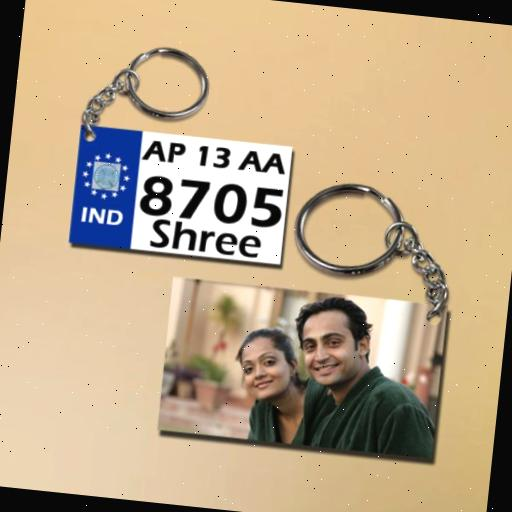number plate: (70, 126, 297, 271)
